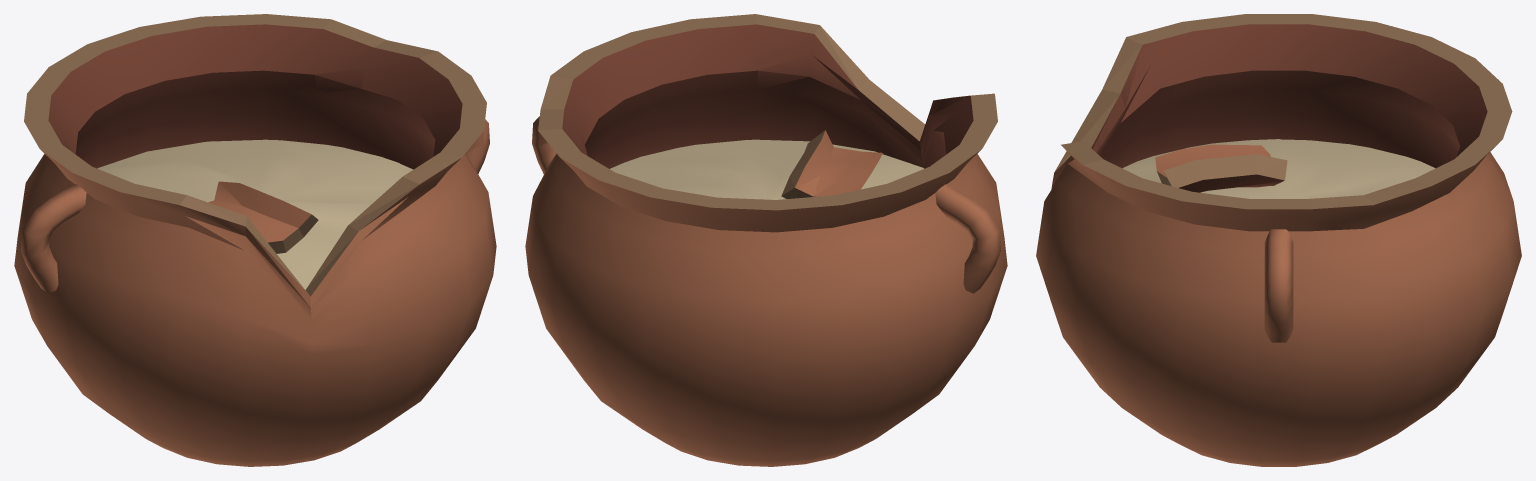
Rendered from SM_LPD_Crate_PotChipped_01.fbx.
3 renders of one model, left to right at view 1: azimuth 30°, elevation 25°; view 2: azimuth 150°, elevation 25°; view 3: azimuth 270°, elevation 25°, orthographic.
Parts seen in each view (by area): view 1: SM_LPD_Crate_PotChipped_01; view 2: SM_LPD_Crate_PotChipped_01; view 3: SM_LPD_Crate_PotChipped_01.
Boxes of the visible parts, bbox=[...] form: SM_LPD_Crate_PotChipped_01: bbox=[14, 14, 496, 466]; SM_LPD_Crate_PotChipped_01: bbox=[525, 14, 1007, 466]; SM_LPD_Crate_PotChipped_01: bbox=[1036, 14, 1521, 466].
Size of the model in its own units: 0.3898 by 0.246 by 0.354.
